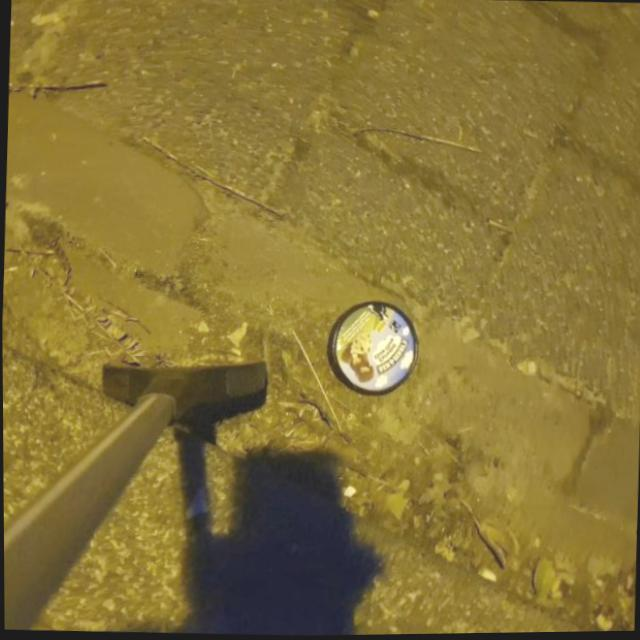Paper: (323, 297, 422, 400)
